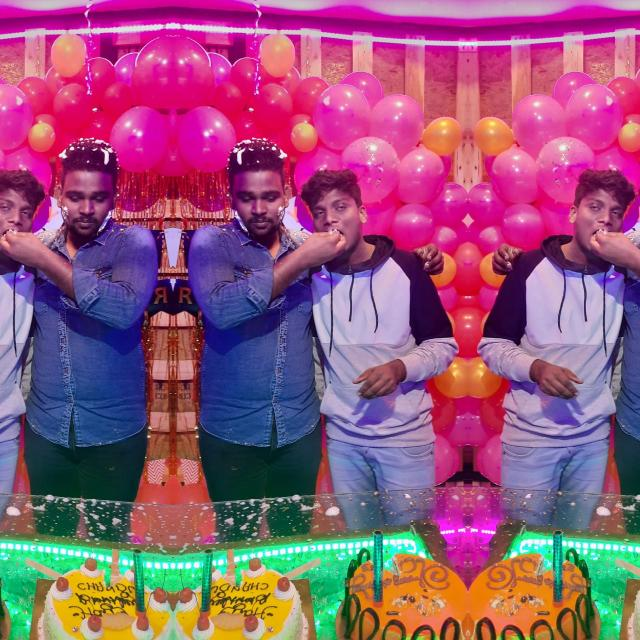person: (302, 165, 450, 502), (484, 165, 632, 502), (207, 137, 307, 450), (37, 137, 137, 450), (0, 165, 42, 502), (627, 137, 640, 450)
